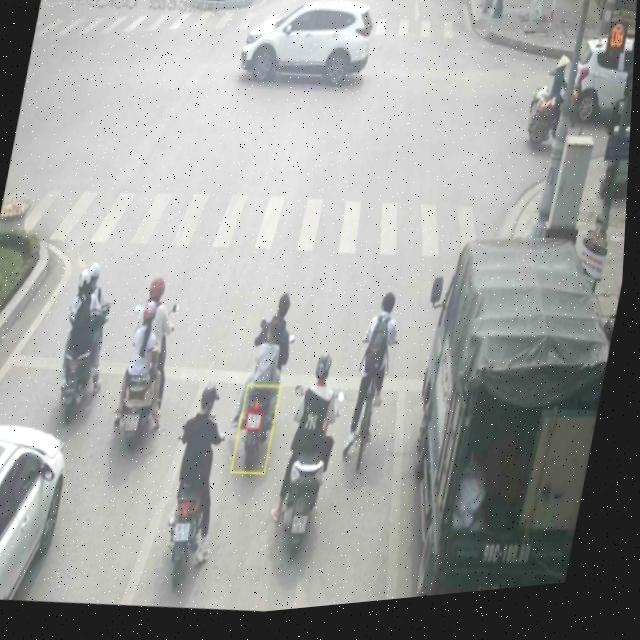Red: (626, 26, 637, 113)
